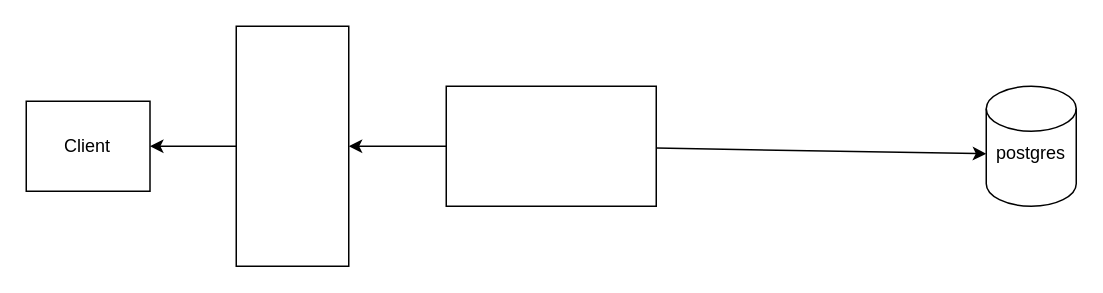
The diagram is 1103 pixels wide and 293 high, and some of its shapes have lost their labels. The shapes that lost their labels are listed below. From the top down, each one's centre as x and y in pixels, then its label:
the point at 292,145: API Gateway
the point at 550,145: leaderboard_service Server
